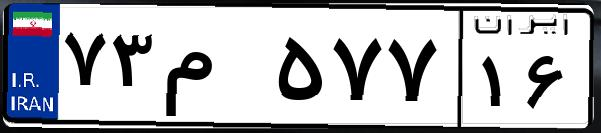1: (475, 38, 525, 113)
3: (110, 28, 158, 98)
5: (270, 28, 330, 110)
6: (525, 38, 570, 115)
7: (385, 28, 445, 110), (330, 28, 385, 110), (57, 26, 110, 100)
م: (158, 20, 270, 120)
